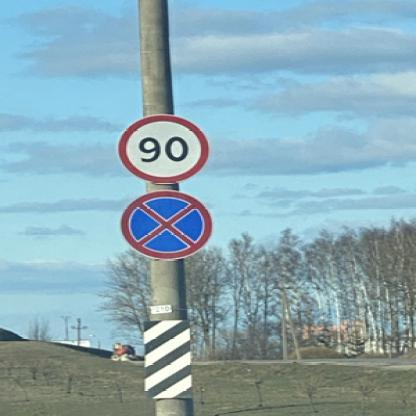speedlimit: (115, 113, 208, 182)
